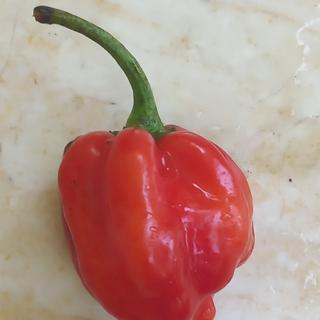Grade-B: (48, 119, 259, 317)
